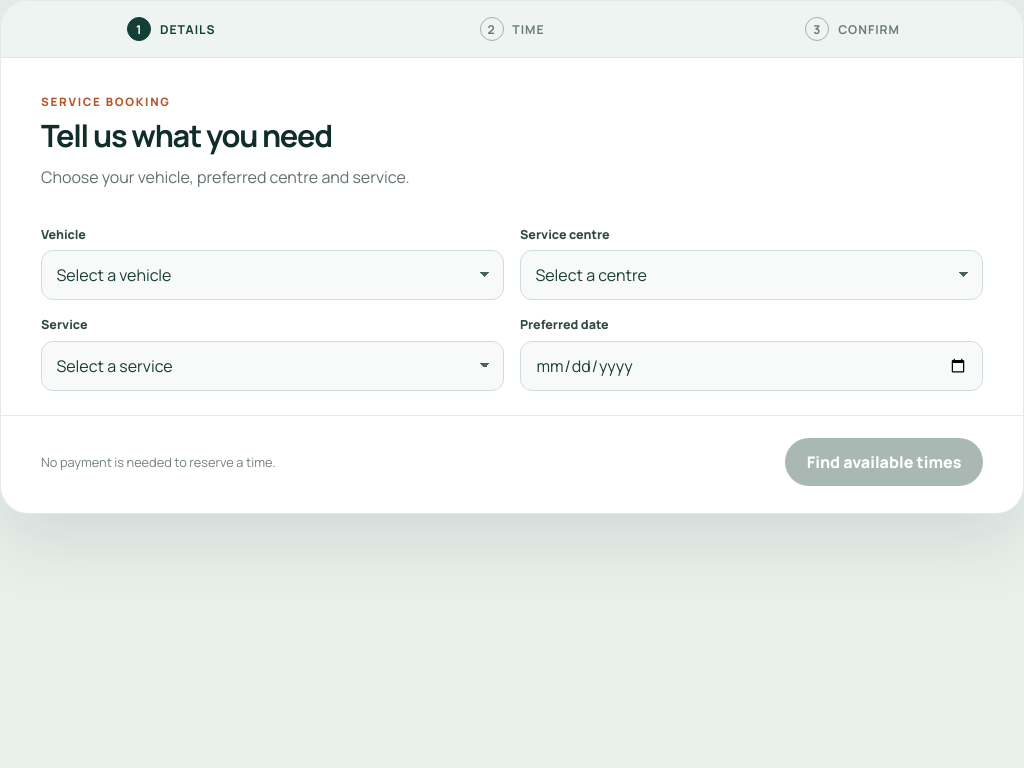
BookingExperience › guides a keyboard user from booking details to a review
Expected: the button "Find available times" is disabled, [785,438,983,486]
Select "Atlas Crossover · DEMO 214" in the dropdown labelled "Vehicle" at (272, 275), box [41,250,504,300]
Select "Harbour Service Centre" in the dropdown labelled "Service centre" at (752, 275), box [520,250,983,300]
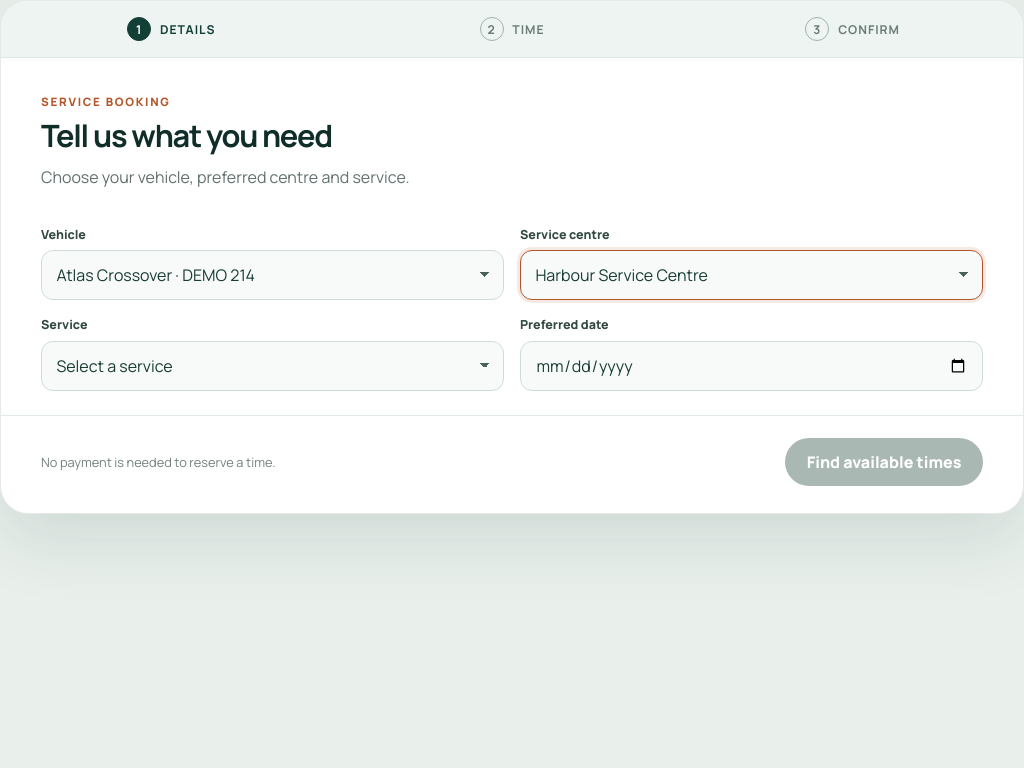
Select "Routine maintenance · 60 min" in the dropdown labelled "Service" at (272, 366), box [41,341,504,391]
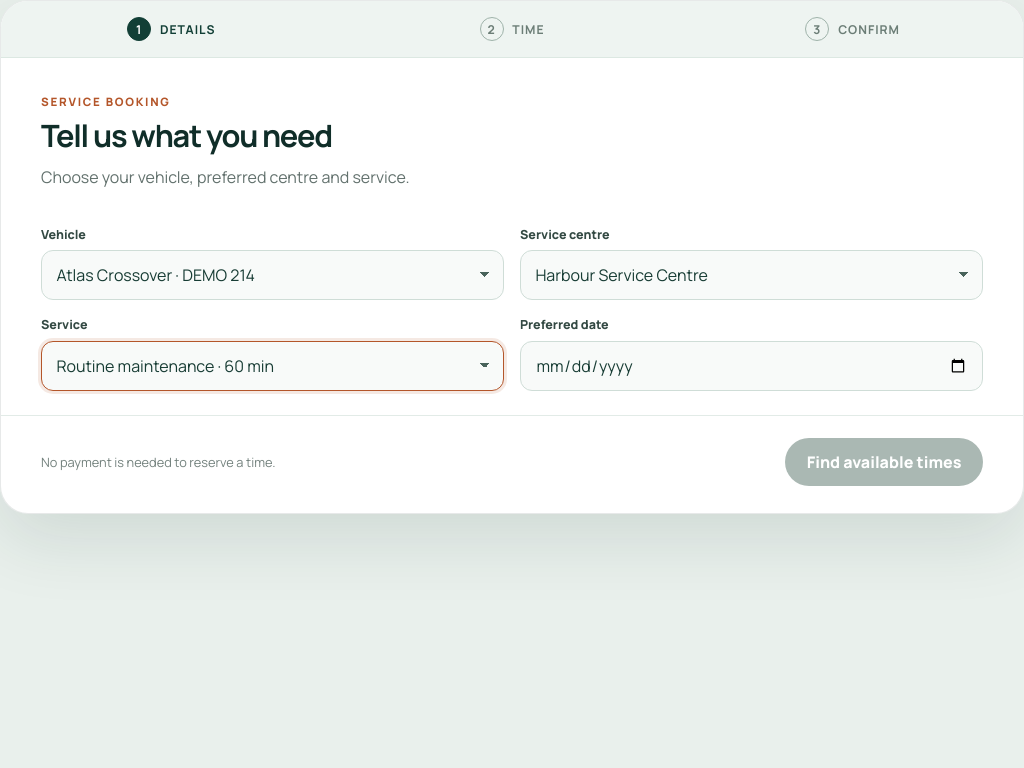
Type "2026-10-02" into the date field labelled "Preferred date" at (752, 366), box [520,341,983,391]
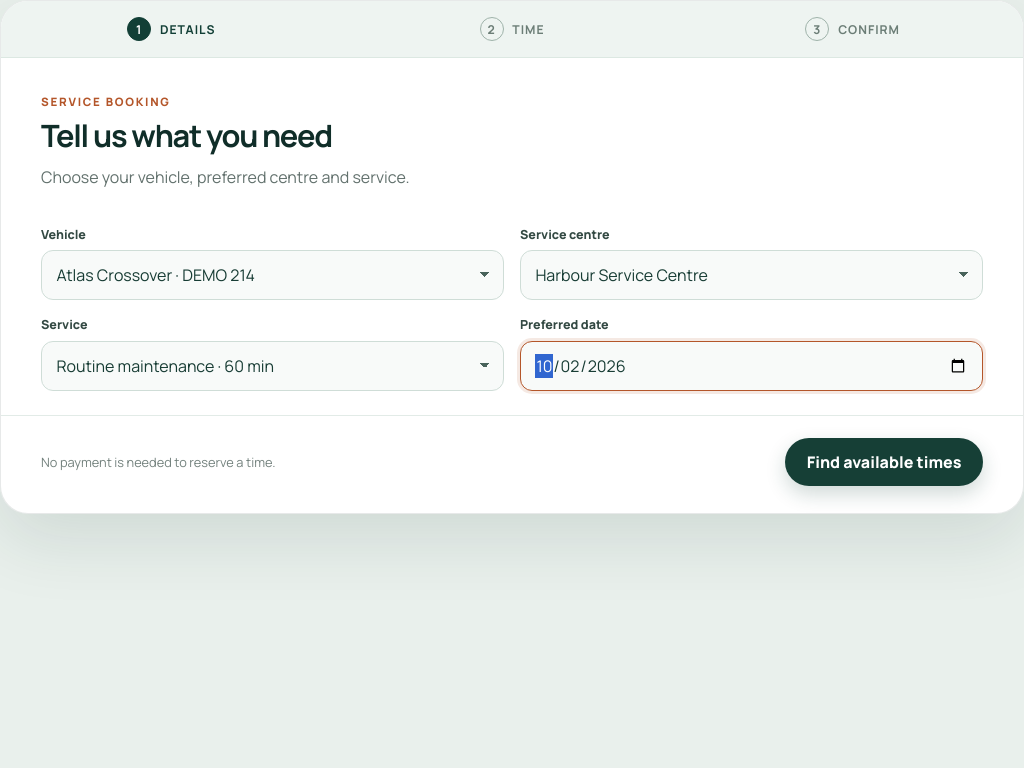
Click the button "Find available times" at (884, 462), box [785,438,983,486]
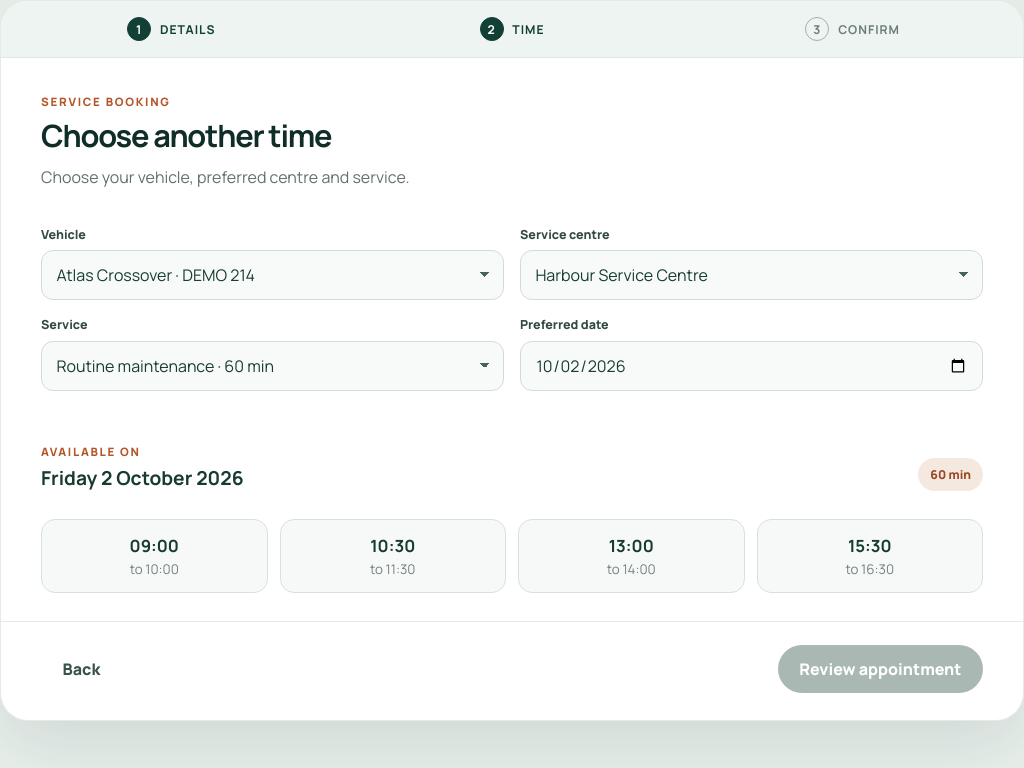
Click the radio button labelled "09:00 to 10:00" at (154, 556), box [41,519,268,593]
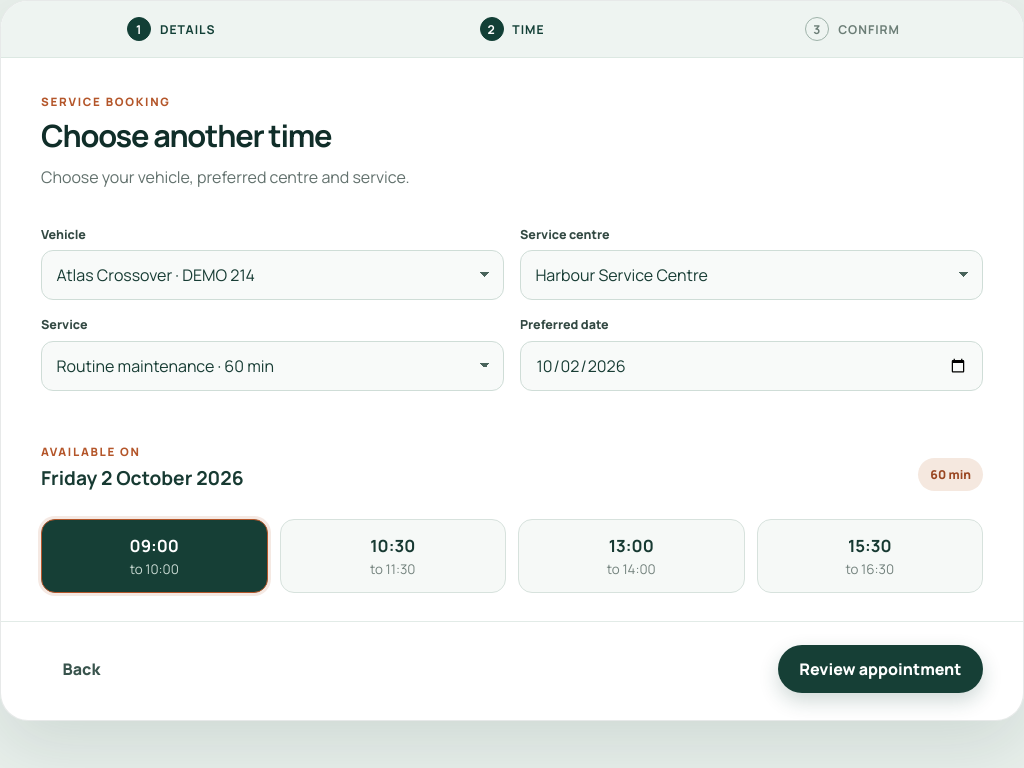
Click the button "Review appointment" at (880, 669), box [778,645,983,693]
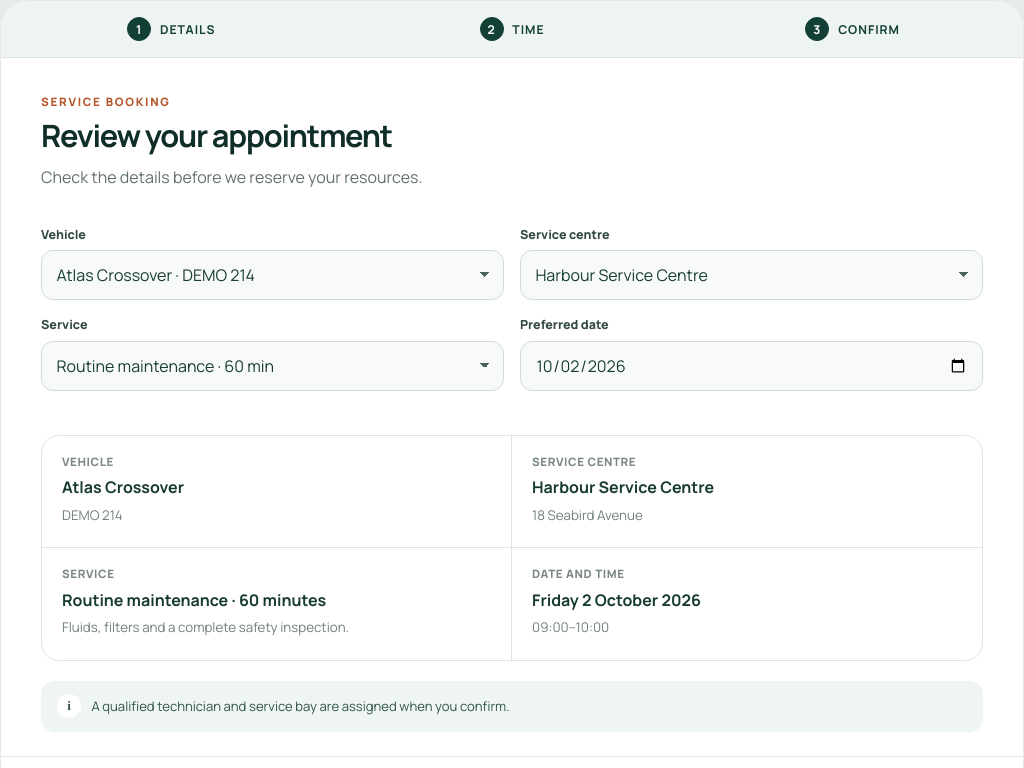
Now the heading "Review your appointment" is shown, box [41,114,392,156]
Now the text "Routine maintenance · 60 minutes" is shown, box [62,589,326,611]
Now the text "technician and service bay are assigned when you confirm" is shown, box [91,697,510,715]
